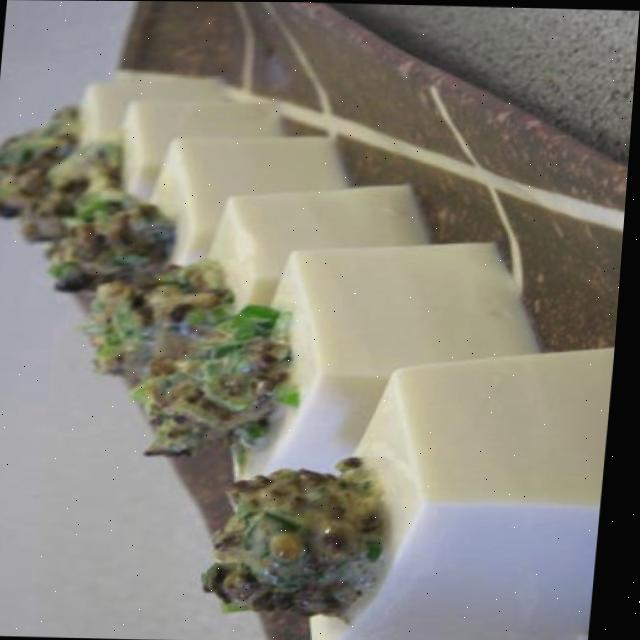豆腐料理: (0, 69, 636, 640)
